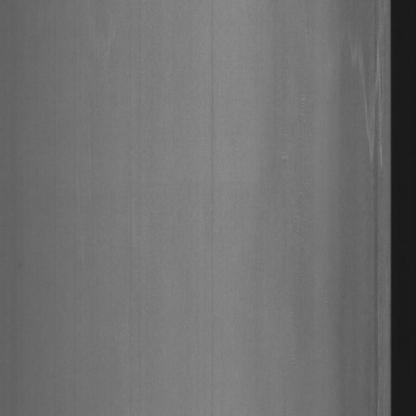silk_spot: (344, 33, 387, 197)
